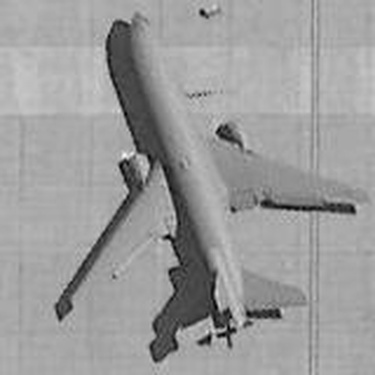airplane: (21, 1, 372, 357)
